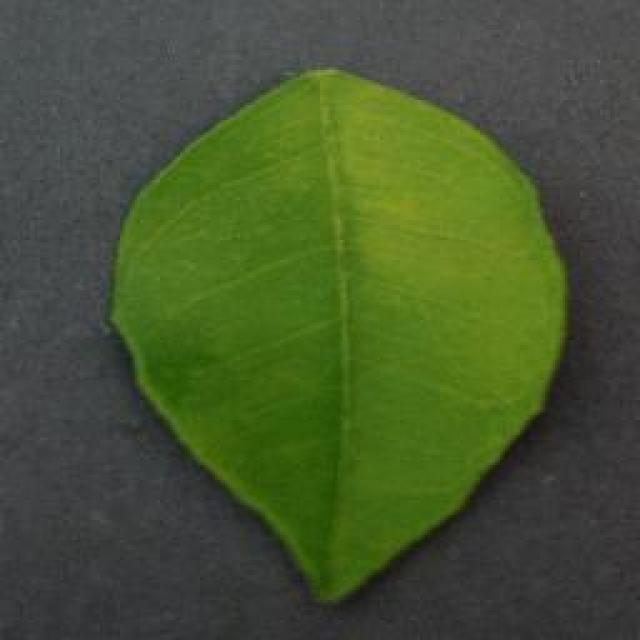Orange_Haunglongbing_Citrus_greening: (142, 121, 546, 495)
